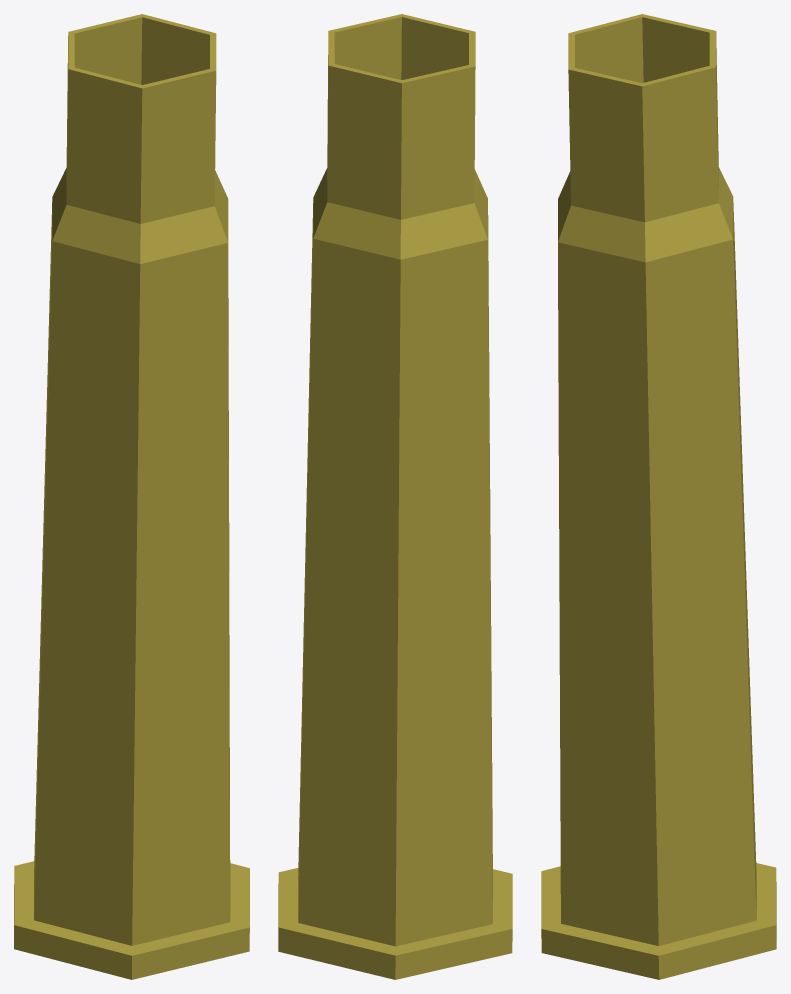
The model's file is No_Physic _Ammo_case_.fbx.
3 views of the same model, side by side, from view 1: azimuth 30°, elevation 25°; view 2: azimuth 150°, elevation 25°; view 3: azimuth 270°, elevation 25° (orthographic).
Parts seen in each view (by area): view 1: Ammo_case; view 2: Ammo_case; view 3: Ammo_case.
Part boxes in pixels (box(x1,y1,x2,y2)): Ammo_case: box(14, 14, 249, 979); Ammo_case: box(278, 14, 512, 979); Ammo_case: box(541, 14, 776, 979).
Size of the model in its own units: 13.6 by 48.47 by 11.8.
